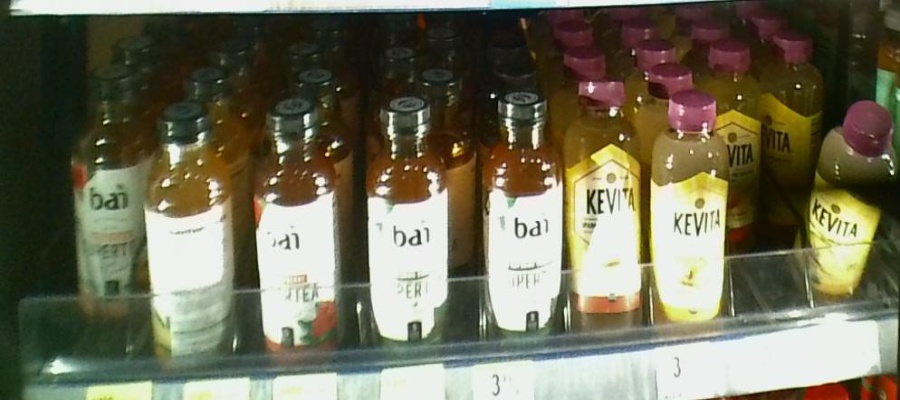bottle: (146, 102, 242, 361), (359, 87, 452, 353), (250, 96, 342, 361), (477, 79, 564, 345), (568, 74, 645, 338), (648, 92, 729, 338), (68, 69, 143, 322), (812, 102, 895, 297), (728, 43, 760, 242)
